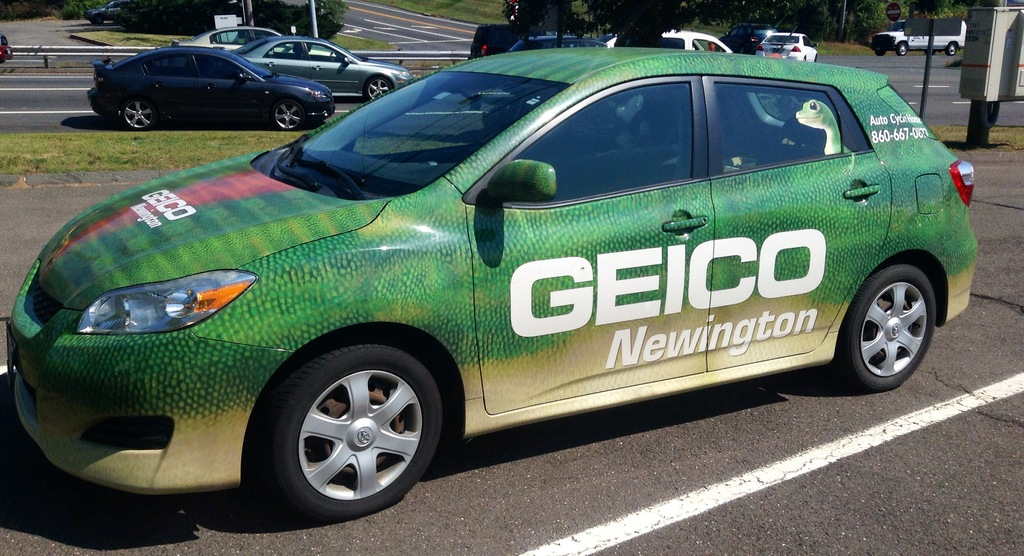mobil: (11, 46, 989, 517), (86, 45, 328, 128)
